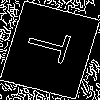T: (24, 25, 81, 68)
